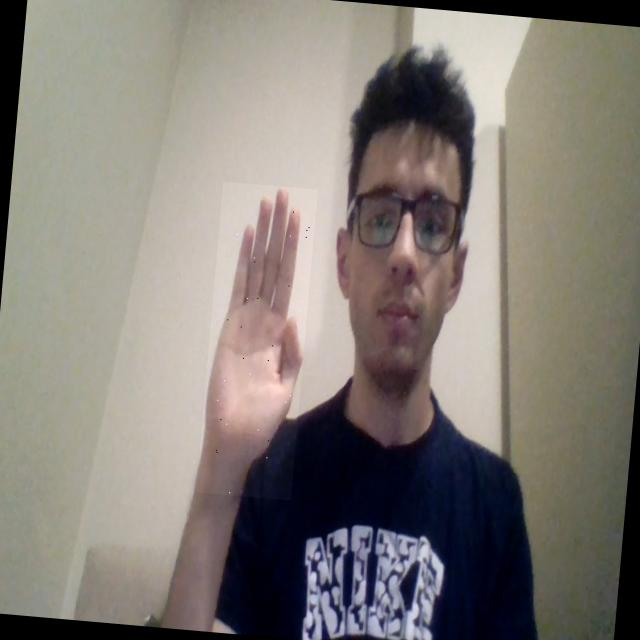hello: (195, 181, 318, 500)
